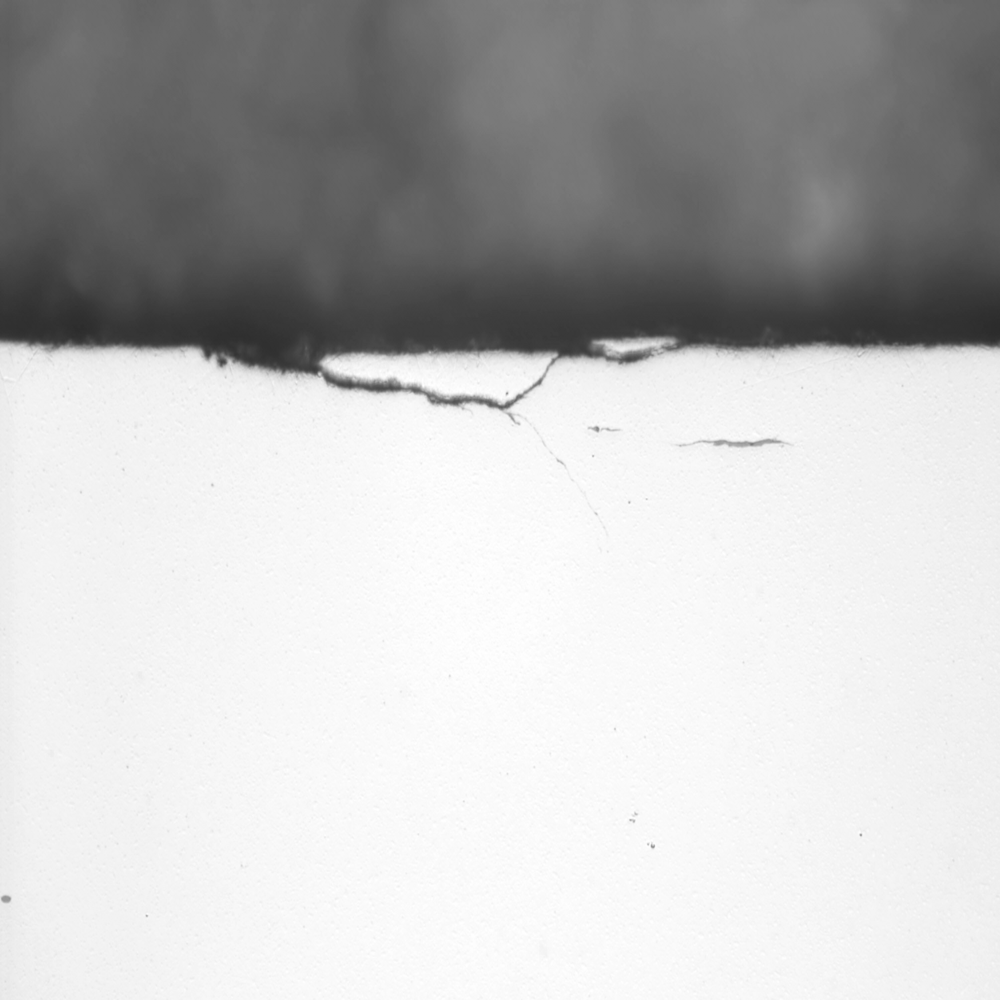crack: (193, 341, 614, 537), (672, 417, 804, 463)
